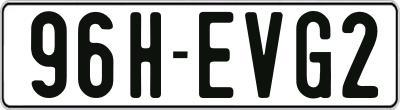2: (341, 12, 383, 100)
6: (76, 12, 113, 101)
9: (30, 11, 69, 100)
E: (198, 9, 234, 101)
G: (296, 11, 333, 99)
H: (130, 11, 167, 97)
V: (245, 9, 286, 97)
